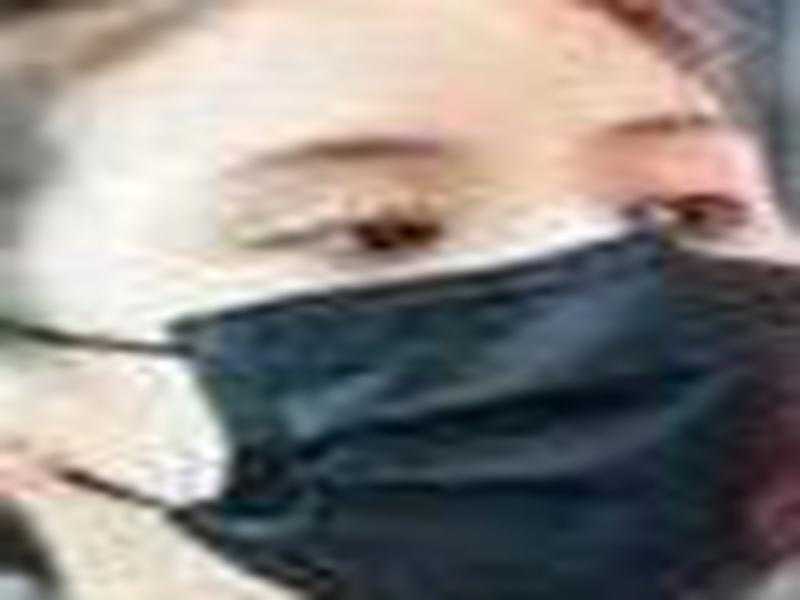with_mask: (1, 1, 799, 590)
